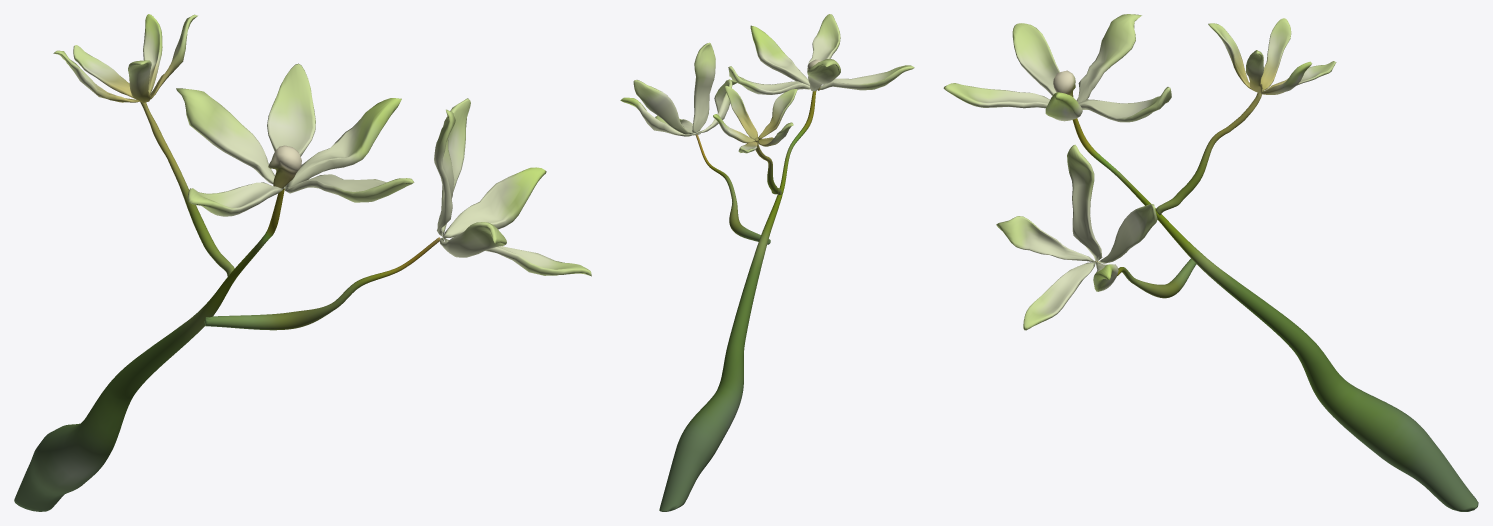
3 views of the same model, side by side, from view 1: azimuth 30°, elevation 25°; view 2: azimuth 150°, elevation 25°; view 3: azimuth 270°, elevation 25° (orthographic). The views are drawn at different scales.
Parts seen in each view (by area): view 1: LOD 1_6708565968084579216_bb9398364d468ec489d5e3c54dd32286; view 2: LOD 1_6708565968084579216_bb9398364d468ec489d5e3c54dd32286; view 3: LOD 1_6708565968084579216_bb9398364d468ec489d5e3c54dd32286.
Part boxes in pixels (x1,y1,x2,y2): LOD 1_6708565968084579216_bb9398364d468ec489d5e3c54dd32286: (14, 14, 591, 511); LOD 1_6708565968084579216_bb9398364d468ec489d5e3c54dd32286: (620, 14, 914, 511); LOD 1_6708565968084579216_bb9398364d468ec489d5e3c54dd32286: (943, 14, 1478, 511).
Bounding box in the file's own units: 7.96 × 10.64 × 10.92.
